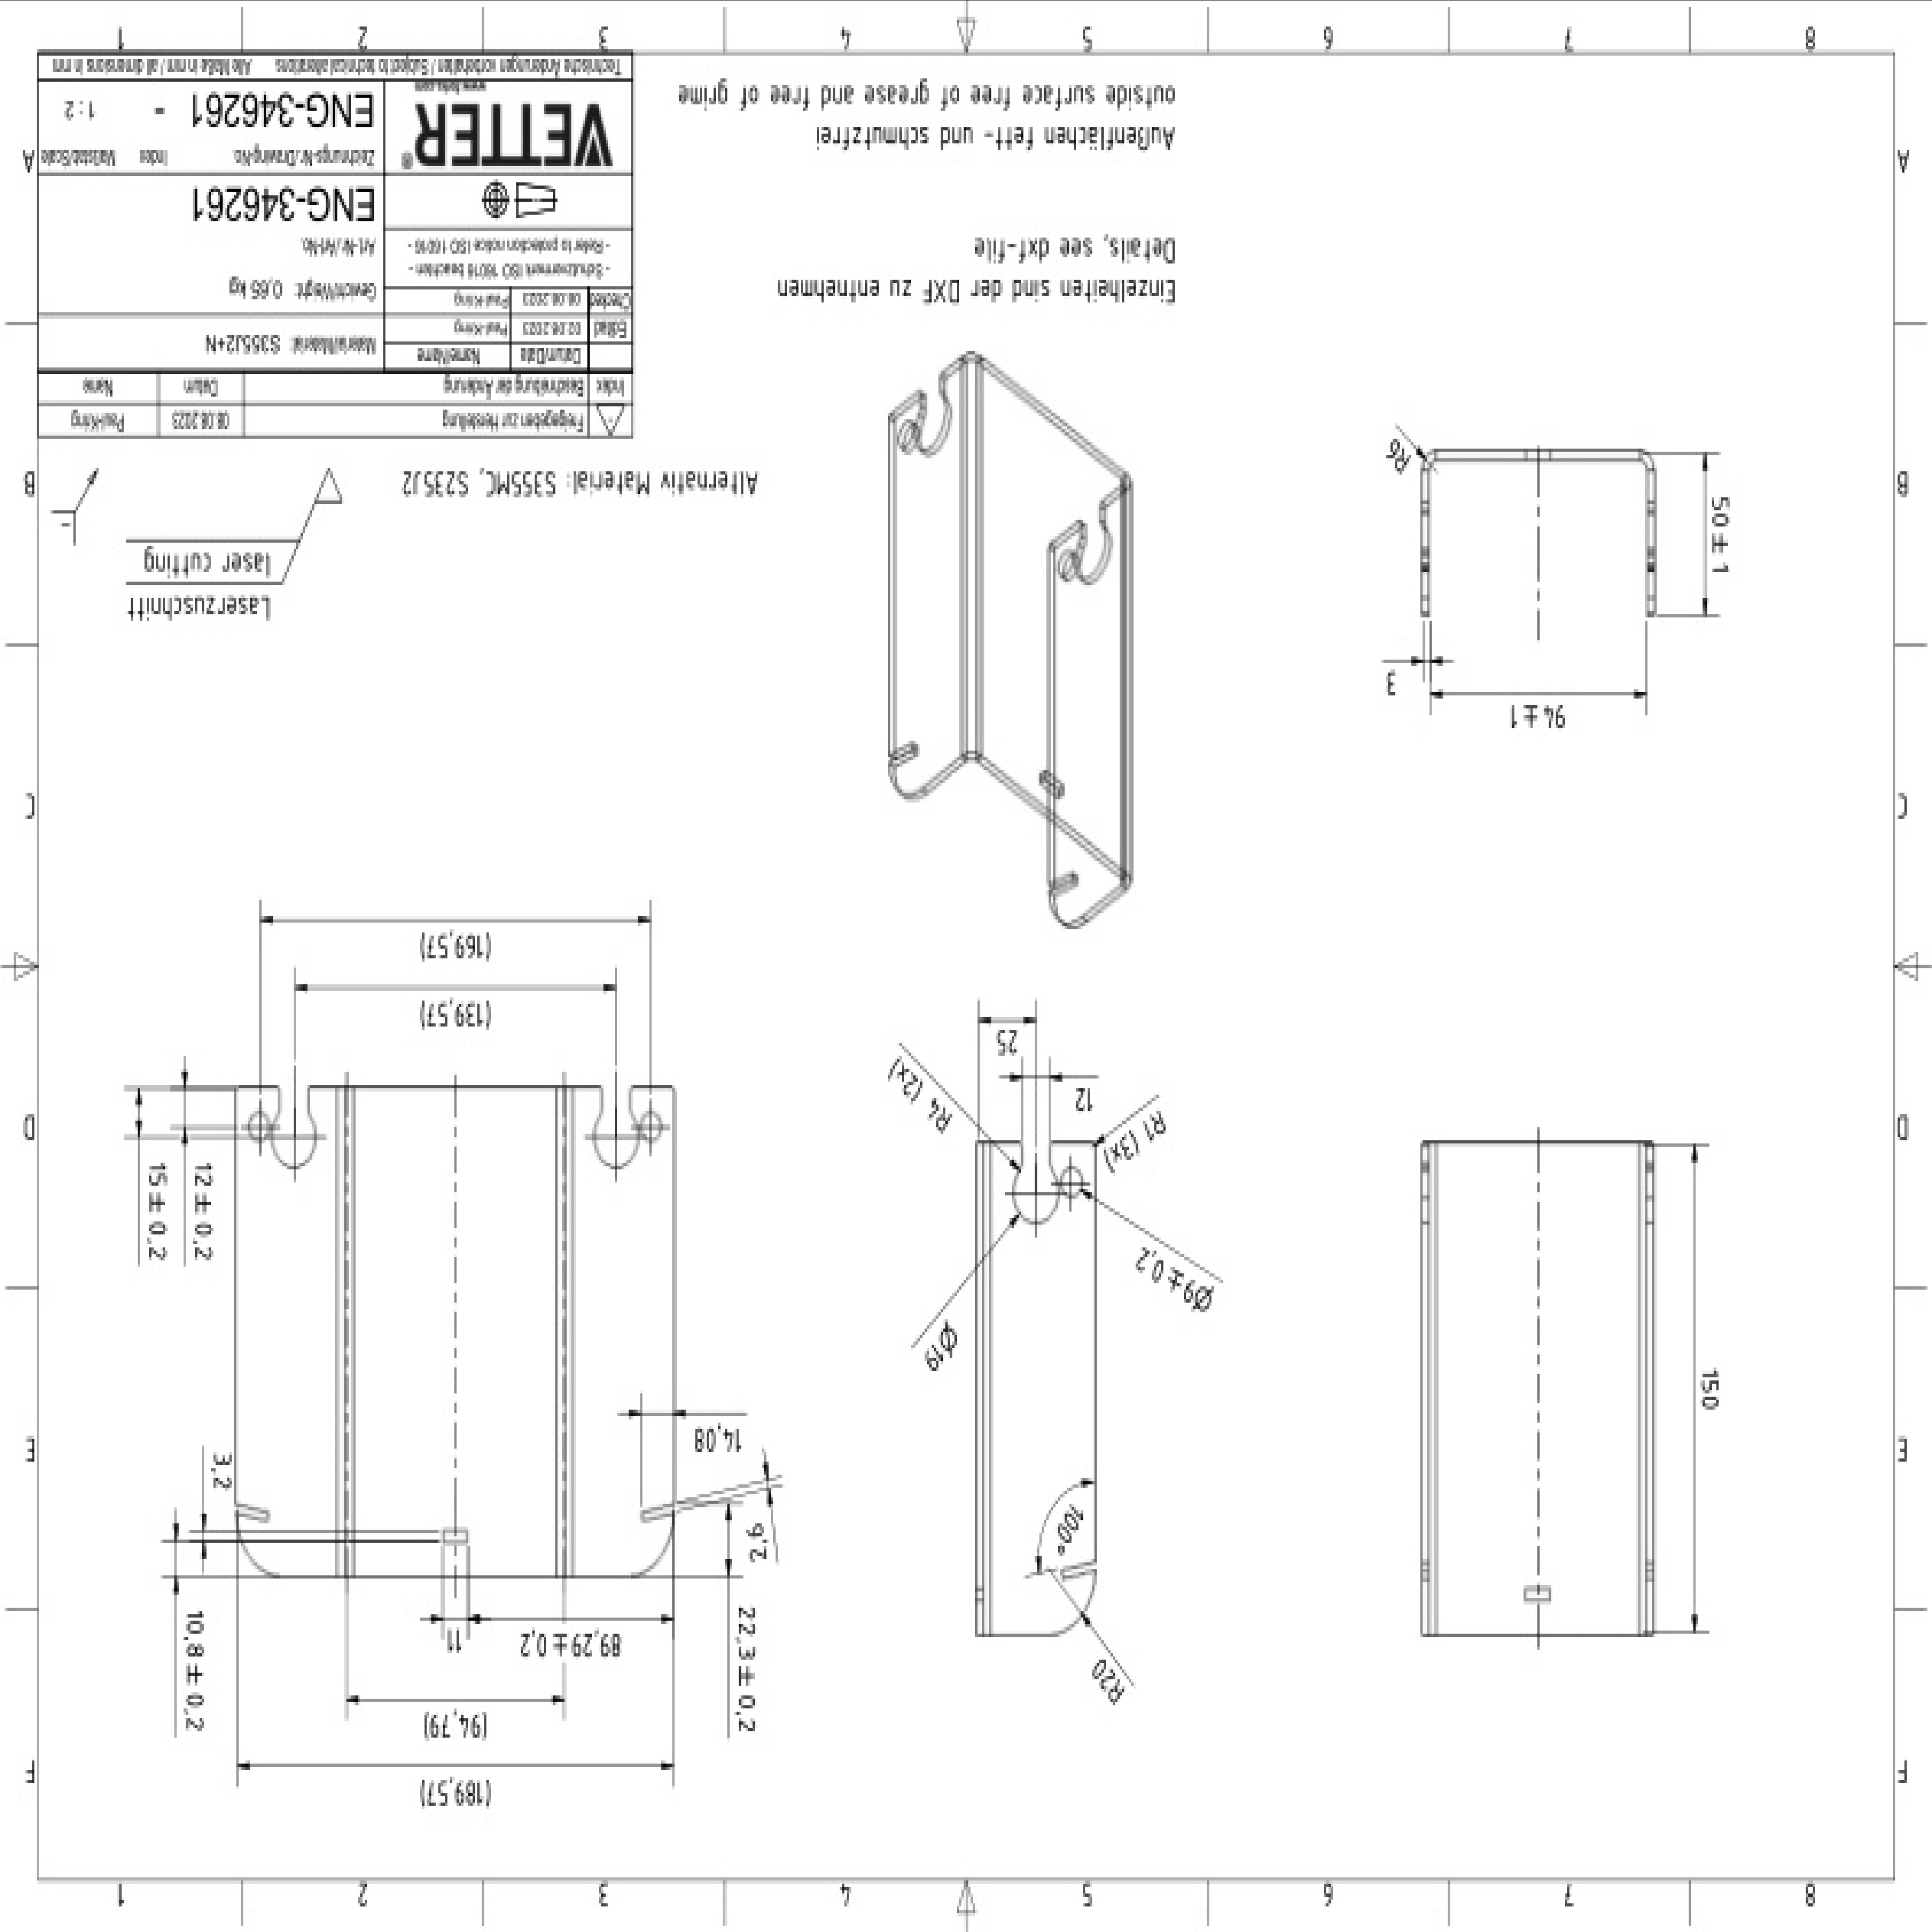InnerContour: (1058, 1161, 1086, 1201), (244, 1109, 274, 1145), (895, 421, 922, 455), (1056, 545, 1077, 584), (639, 1109, 662, 1143)
InnerContourAngular: (1525, 1583, 1555, 1603), (439, 1527, 471, 1545)
Notch: (587, 1088, 640, 1178), (269, 1085, 320, 1171), (906, 387, 962, 460), (1070, 510, 1120, 591), (1008, 1157, 1060, 1230), (642, 1497, 683, 1529), (230, 1497, 272, 1527), (1060, 1557, 1097, 1580)
